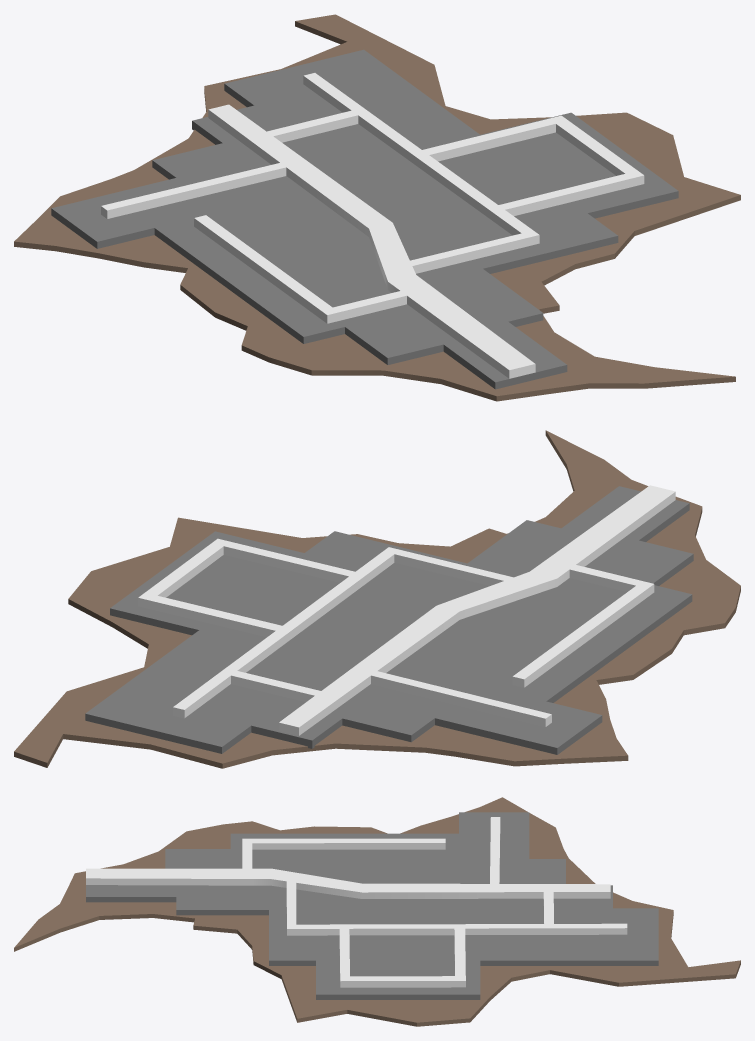
Rendered from LayoutMappa_Model.fbx.
3 renders of one model, top to bottom at view 1: azimuth 30°, elevation 25°; view 2: azimuth 150°, elevation 25°; view 3: azimuth 270°, elevation 25°, orthographic. The views are drawn at different scales.
Parts seen in each view (by area): view 1: pCube1, pPlane1, pCube2; view 2: pCube1, pPlane1, pCube2; view 3: pCube1, pPlane1, pCube2.
Part boxes in pixels (box(x1,y1,x2,y2)): pCube1: box(51, 49, 678, 389); pPlane1: box(14, 14, 740, 401); pCube2: box(101, 73, 644, 378); pCube1: box(85, 486, 693, 754); pPlane1: box(14, 430, 740, 768); pCube2: box(138, 485, 675, 735); pCube1: box(86, 812, 658, 999); pPlane1: box(14, 797, 740, 1026); pCube2: box(86, 817, 627, 987).
Bounding box in the file's own units: 66.58 × 2.22 × 90.7.
